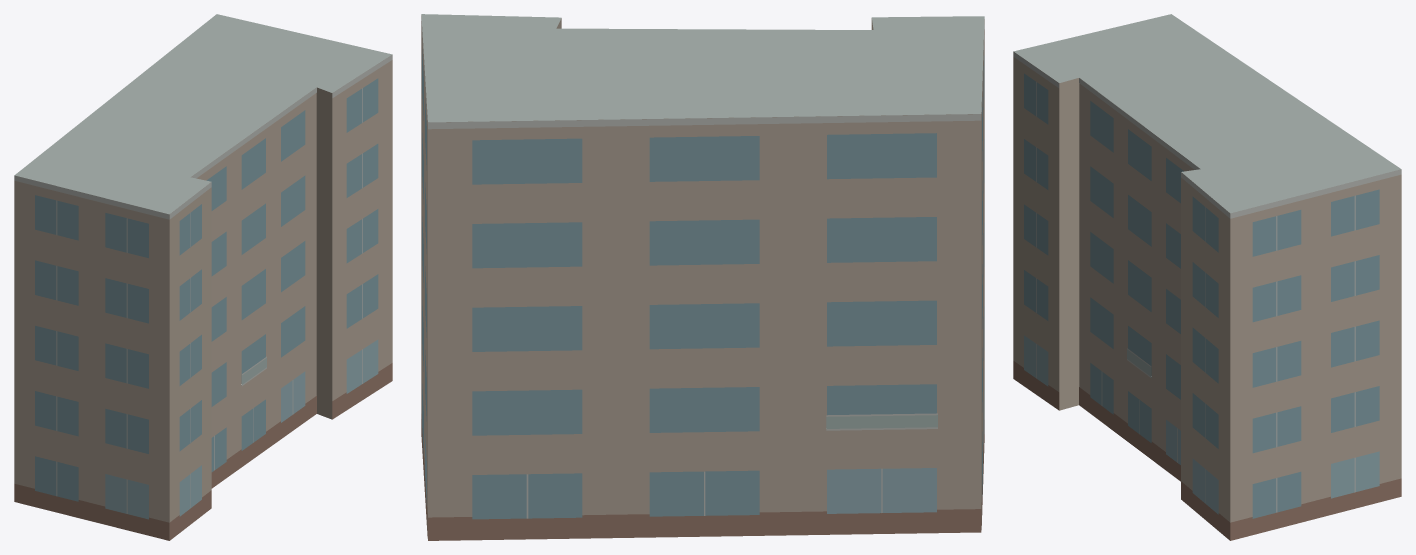
The model's file is survey-upis-33031013.glb.
The picture shows the model from 3 angles, left to right: view 1: azimuth 30°, elevation 25°; view 2: azimuth 150°, elevation 25°; view 3: azimuth 270°, elevation 25°; orthographic projection. The views are drawn at different scales.
Visible parts, largest first — view 1: survey-upis-33031013.tmp; view 2: survey-upis-33031013.tmp; view 3: survey-upis-33031013.tmp.
Part boxes in pixels (bbox=[...]): survey-upis-33031013.tmp: bbox=[14, 14, 392, 540]; survey-upis-33031013.tmp: bbox=[421, 14, 984, 540]; survey-upis-33031013.tmp: bbox=[1013, 14, 1401, 540].
Size of the model in its own units: 19.6 by 15 by 16.13.
